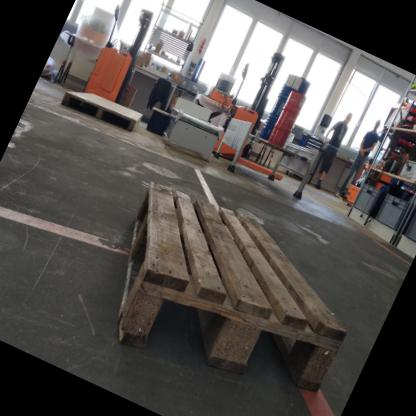BoxFace: (112, 176, 353, 402), (59, 92, 146, 135)
